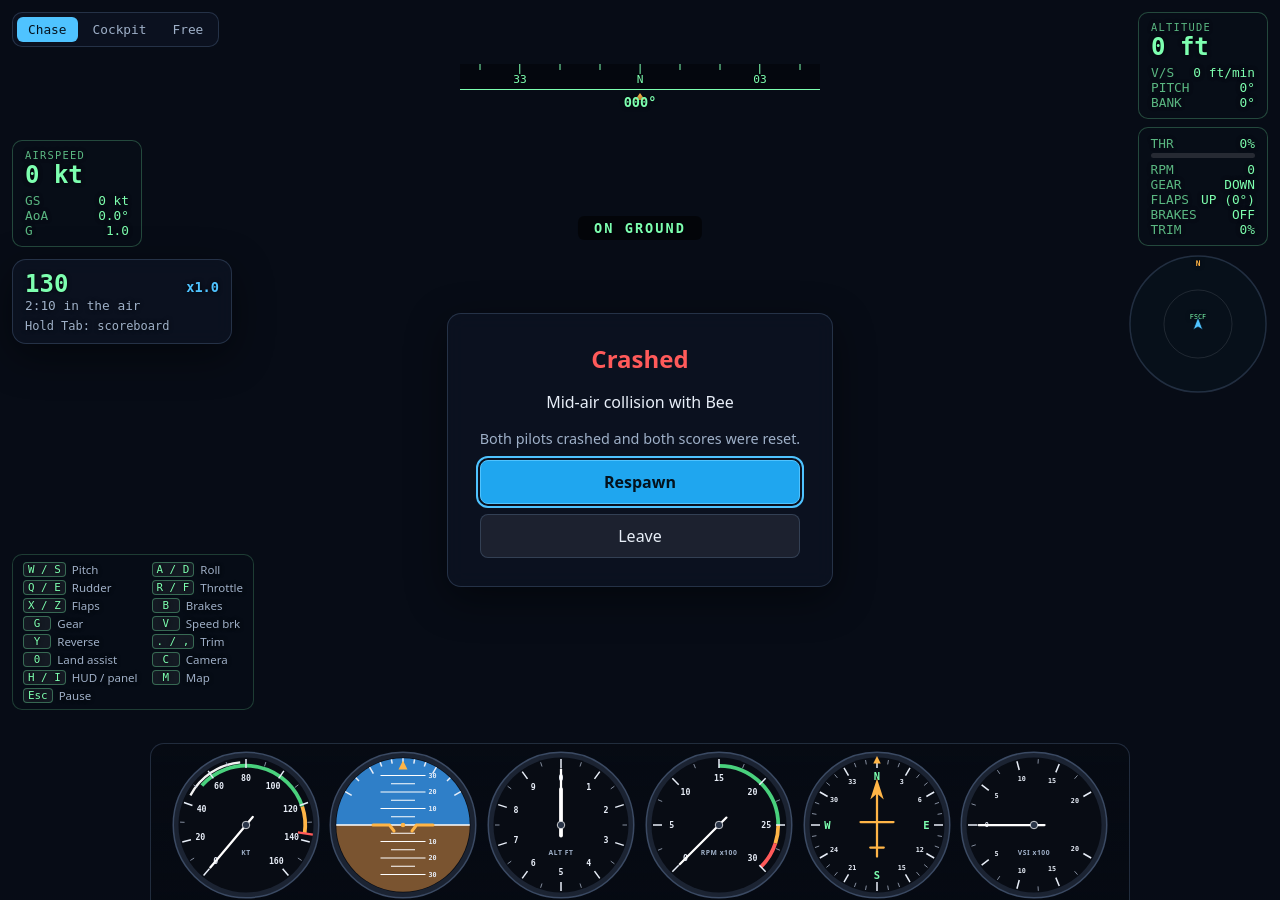
Test: crash panel › a collision crash offers respawn; respawning restarts the flight and keeps the connection
Expected: the dialog "Crashed" shows "Mid-air collision with Bee", [546,391,734,413]
Expected: the dialog "Crashed" shows "both scores were reset", [480,429,800,448]
Step 1. Click the button "Respawn" → (640, 482), box [480,460,800,504]
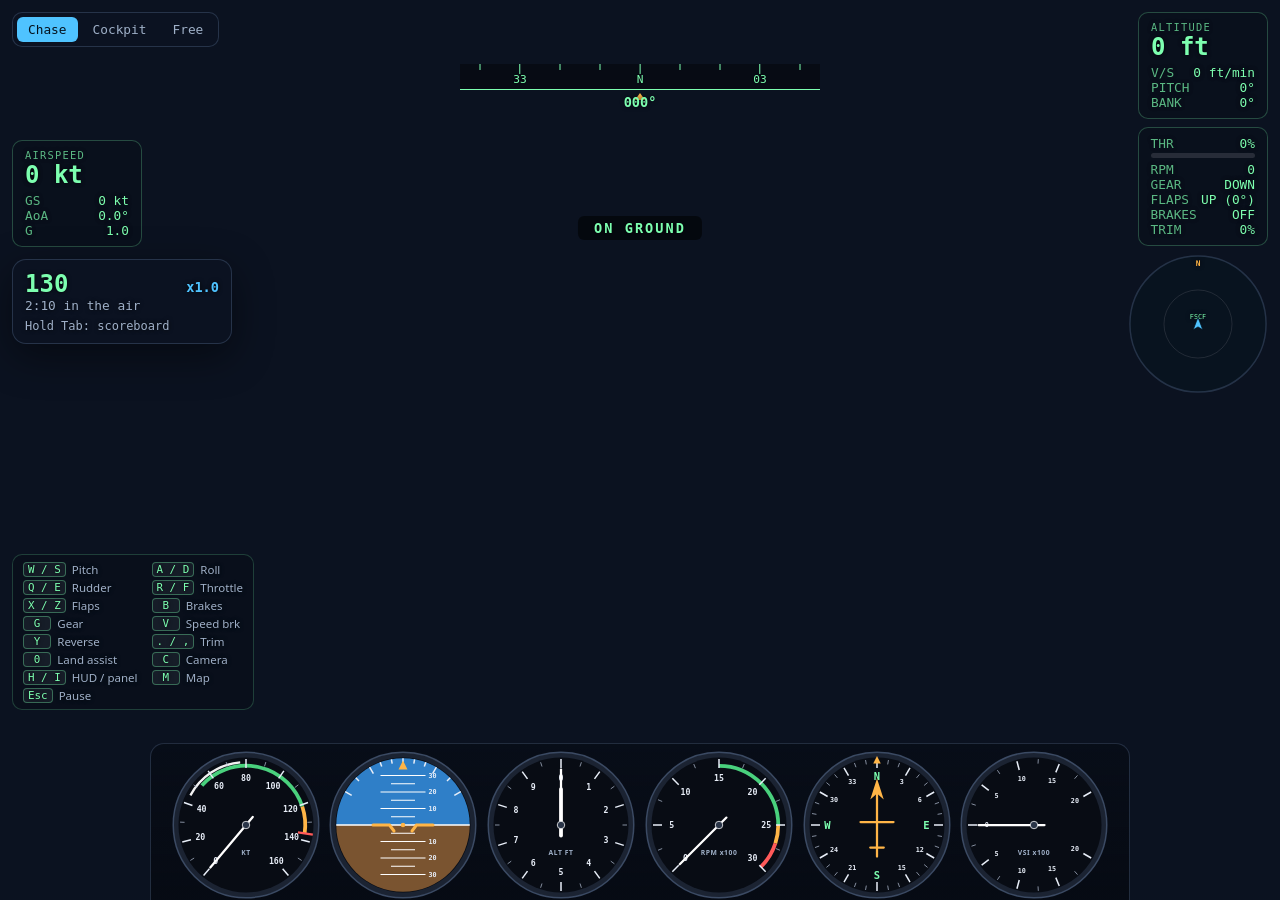
Expected: the heading "Crashed" is gone
